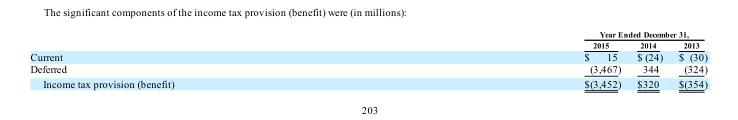table: (29, 29, 706, 89)
table column: (29, 29, 378, 89), (378, 29, 628, 89), (628, 29, 670, 89), (670, 29, 706, 89)
table column header: (29, 29, 706, 49)
table row: (29, 62, 706, 76), (29, 49, 706, 62), (29, 76, 706, 89), (29, 29, 706, 39), (29, 39, 706, 49)
table spanning cell: (378, 29, 706, 39)
